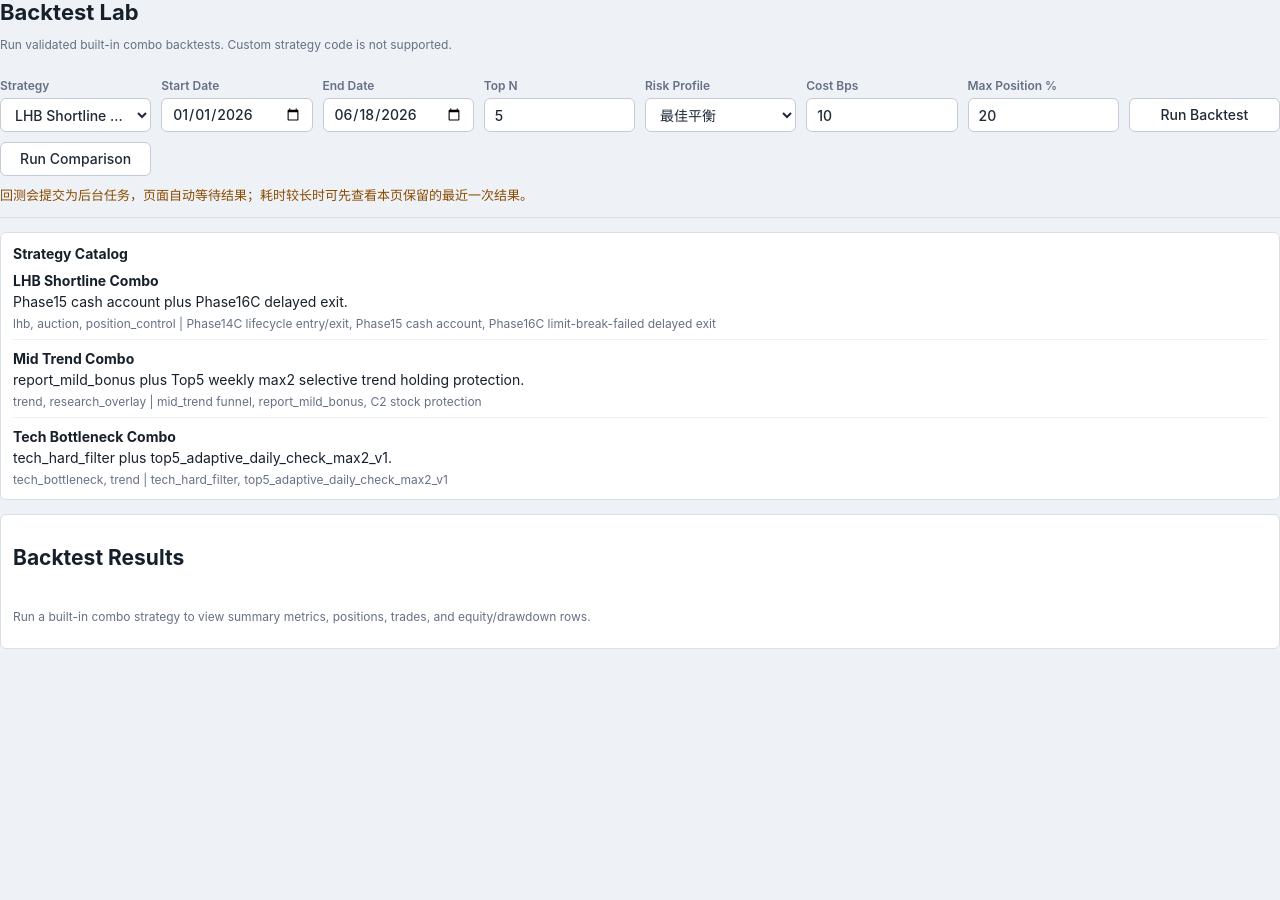
Test case: BacktestLabWorkspace › runs comparison across validated combo strategies with identical parameters
Step 1. Click the button "Run Comparison" → (76, 159), box [0,142,151,176]
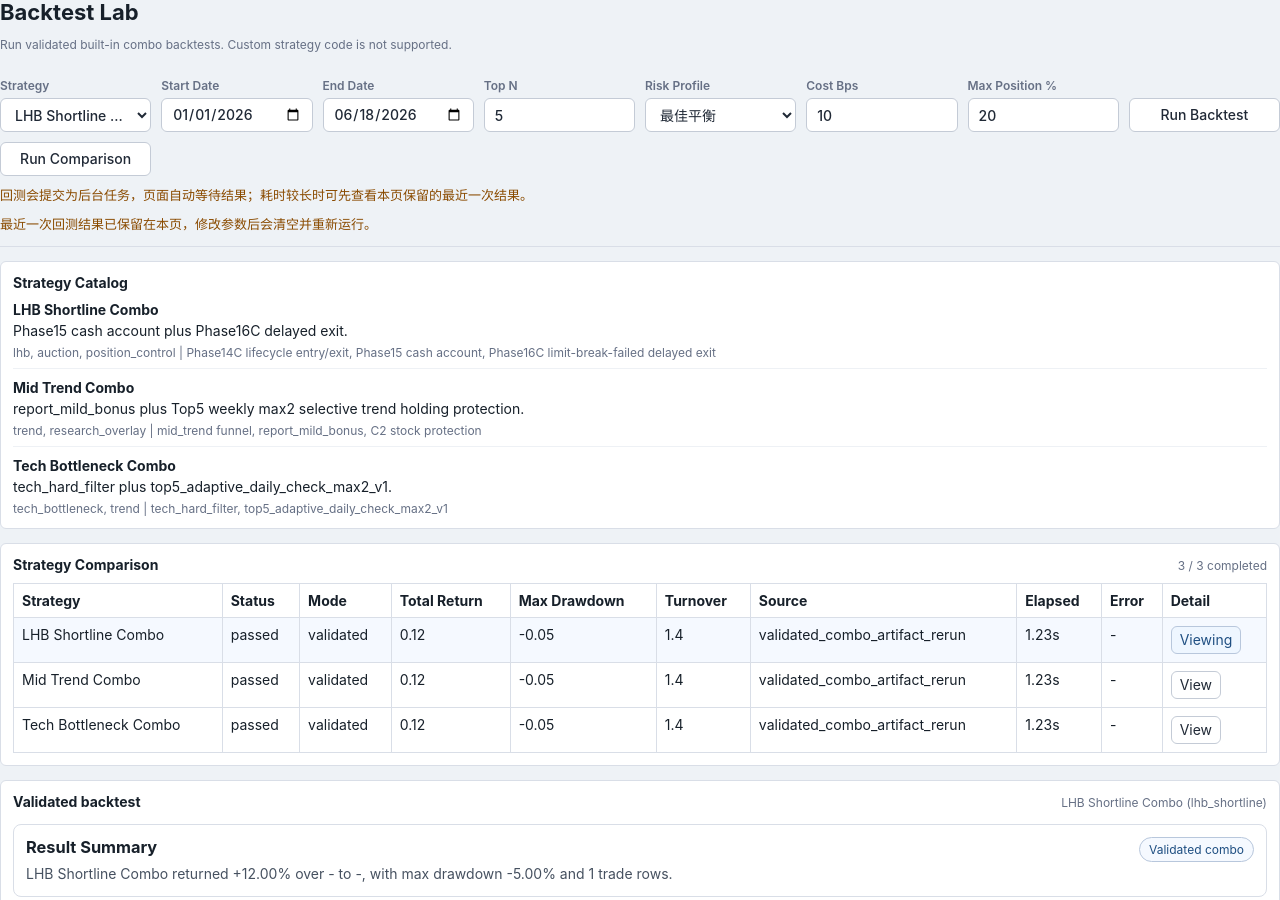
expect the heading "Strategy Comparison" is shown: met, box [13,556,158,573]
expect the cell "LHB Shortline Combo" is shown: met, box [14,618,222,662]
expect the cell "Mid Trend Combo" is shown: met, box [14,662,222,708]
